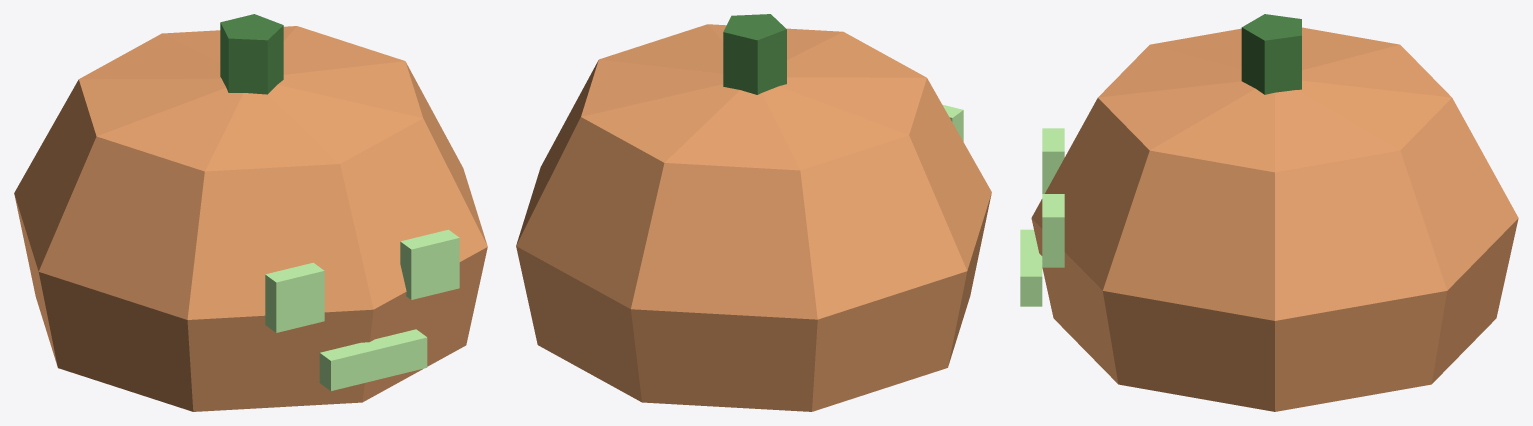
The model's file is pumpkin.glb.
3 views of the same model, side by side, from view 1: azimuth 30°, elevation 25°; view 2: azimuth 150°, elevation 25°; view 3: azimuth 270°, elevation 25° (orthographic).
Visible parts, largest first — view 1: graveyard-pumpkin; view 2: graveyard-pumpkin; view 3: graveyard-pumpkin.
Part boxes in pixels (x1,y1,x2,y2): graveyard-pumpkin: (14, 14, 487, 411); graveyard-pumpkin: (516, 14, 991, 411); graveyard-pumpkin: (1020, 14, 1518, 411).
Size of the model in its own units: 0.44 by 0.33 by 0.45.
